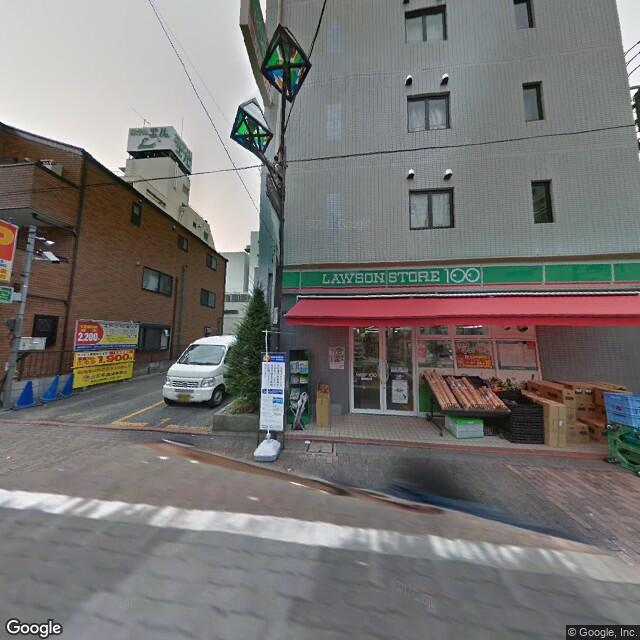lawson: (284, 255, 640, 295)
